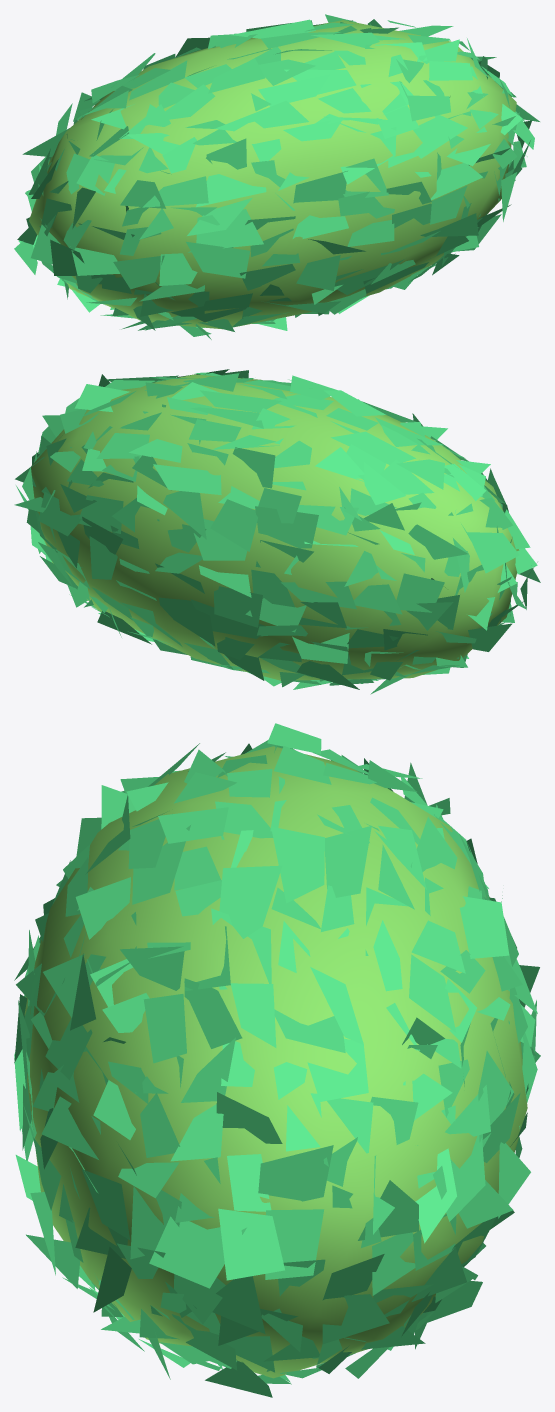
Rendered from semak low poly2.fbx.
3 renders of one model, top to bottom at view 1: azimuth 30°, elevation 25°; view 2: azimuth 150°, elevation 25°; view 3: azimuth 270°, elevation 25°, orthographic. The views are drawn at different scales.
Parts seen in each view (by area): view 1: Cube.003; view 2: Cube.003; view 3: Cube.003.
Boxes of the visible parts, bbox=[...] form: Cube.003: bbox=[14, 14, 539, 339]; Cube.003: bbox=[14, 369, 540, 694]; Cube.003: bbox=[14, 723, 540, 1397].
Bounding box in the file's own units: 194 × 100 × 99.
